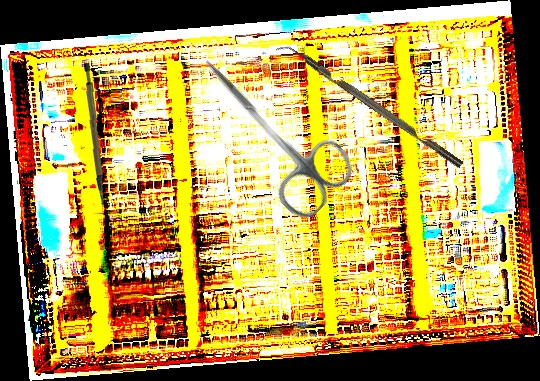Chopper: (274, 37, 464, 177)
Iris Scissors: (174, 35, 362, 226)
Scalpel Handle: (77, 62, 110, 207)
